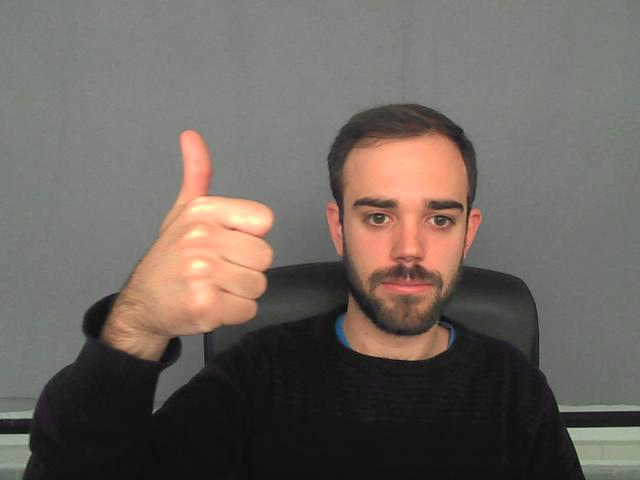thumbs-up: (145, 124, 273, 337)
